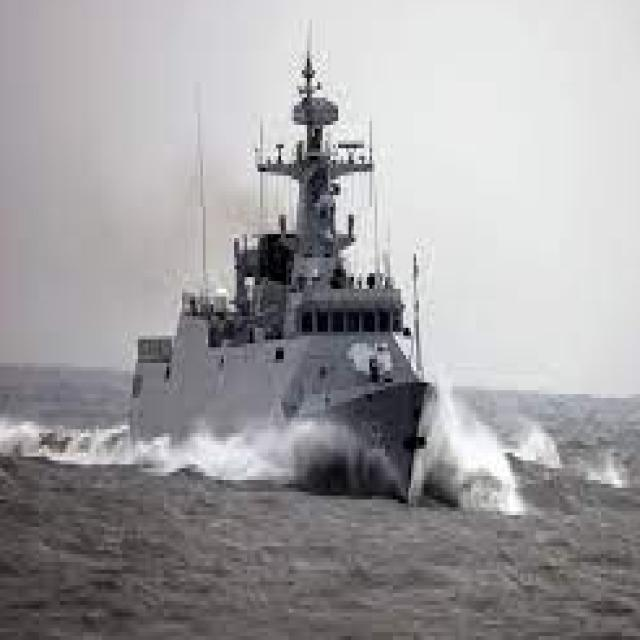navalvessels: (101, 57, 474, 505)
